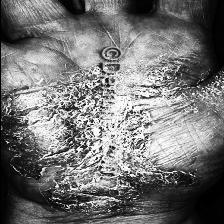Non-Cancerous Skin Condition: (4, 64, 96, 224), (132, 135, 214, 214), (143, 71, 224, 121)
